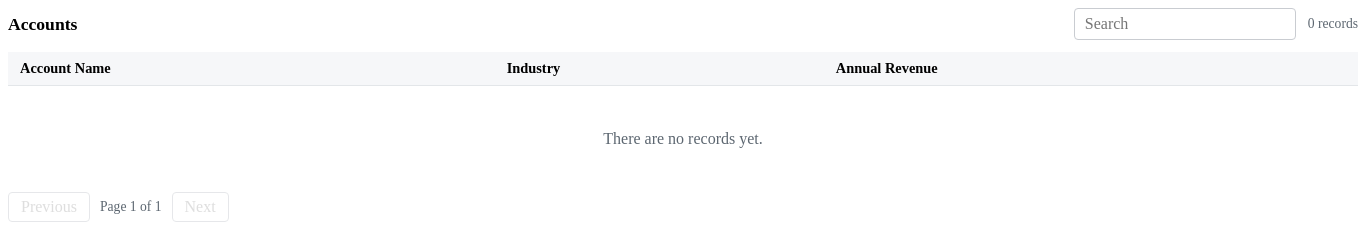
Test case: an empty result says so, and says it differently when a search is active
Expected: the text "There are no records yet." is shown, [603,130,763,147]
Type "zzz" into the search field at (1185, 24), box [1074,8,1296,40]
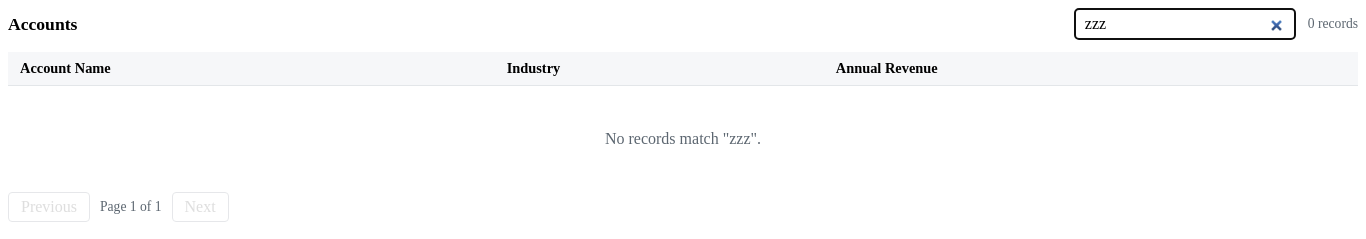
Expected: the text "No records match \"zzz\"." is shown, [605,130,761,147]
